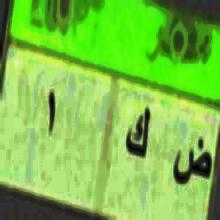1: (43, 74, 60, 138)
daad: (173, 132, 211, 192)
kaaf: (125, 98, 150, 165)
